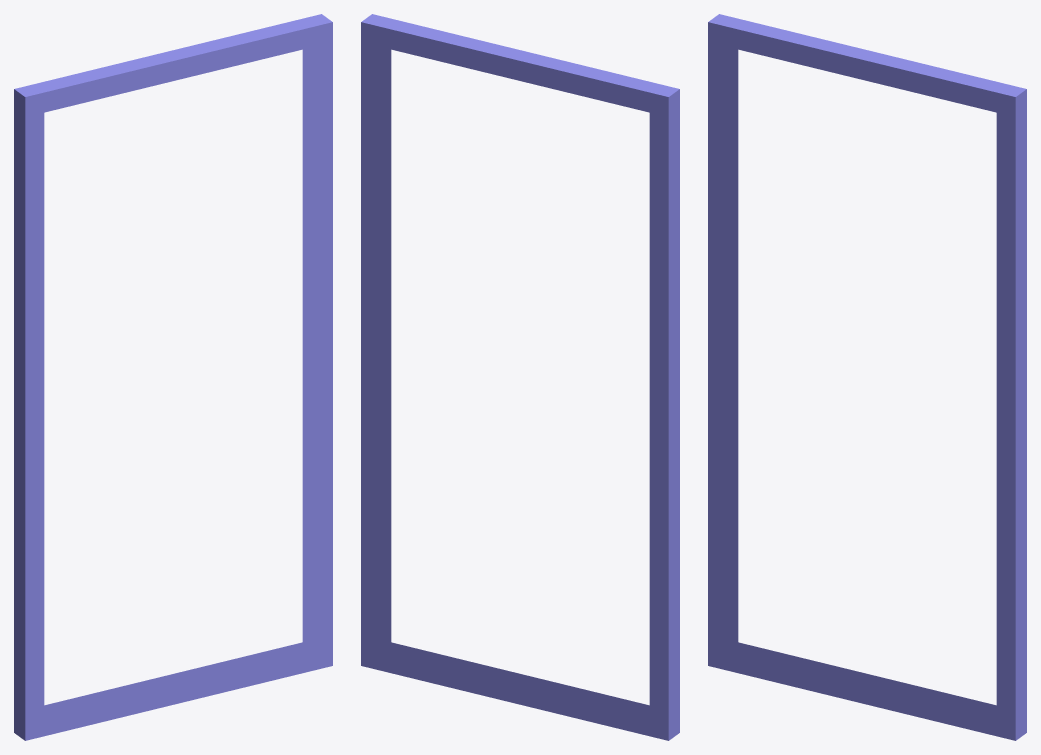
File: original-7.obj
3 views of the same model, side by side, from view 1: azimuth 30°, elevation 25°; view 2: azimuth 150°, elevation 25°; view 3: azimuth 330°, elevation 25° (orthographic).
Visible parts, largest first — view 1: #ID14; view 2: #ID14; view 3: #ID14.
Part boxes in pixels (left/top/right/bottom): #ID14: left=14, top=14, right=332, bottom=740; #ID14: left=361, top=14, right=679, bottom=740; #ID14: left=708, top=14, right=1026, bottom=740.
Bounding box in the file's own units: 0.3087 × 0.6173 × 0.0193.
